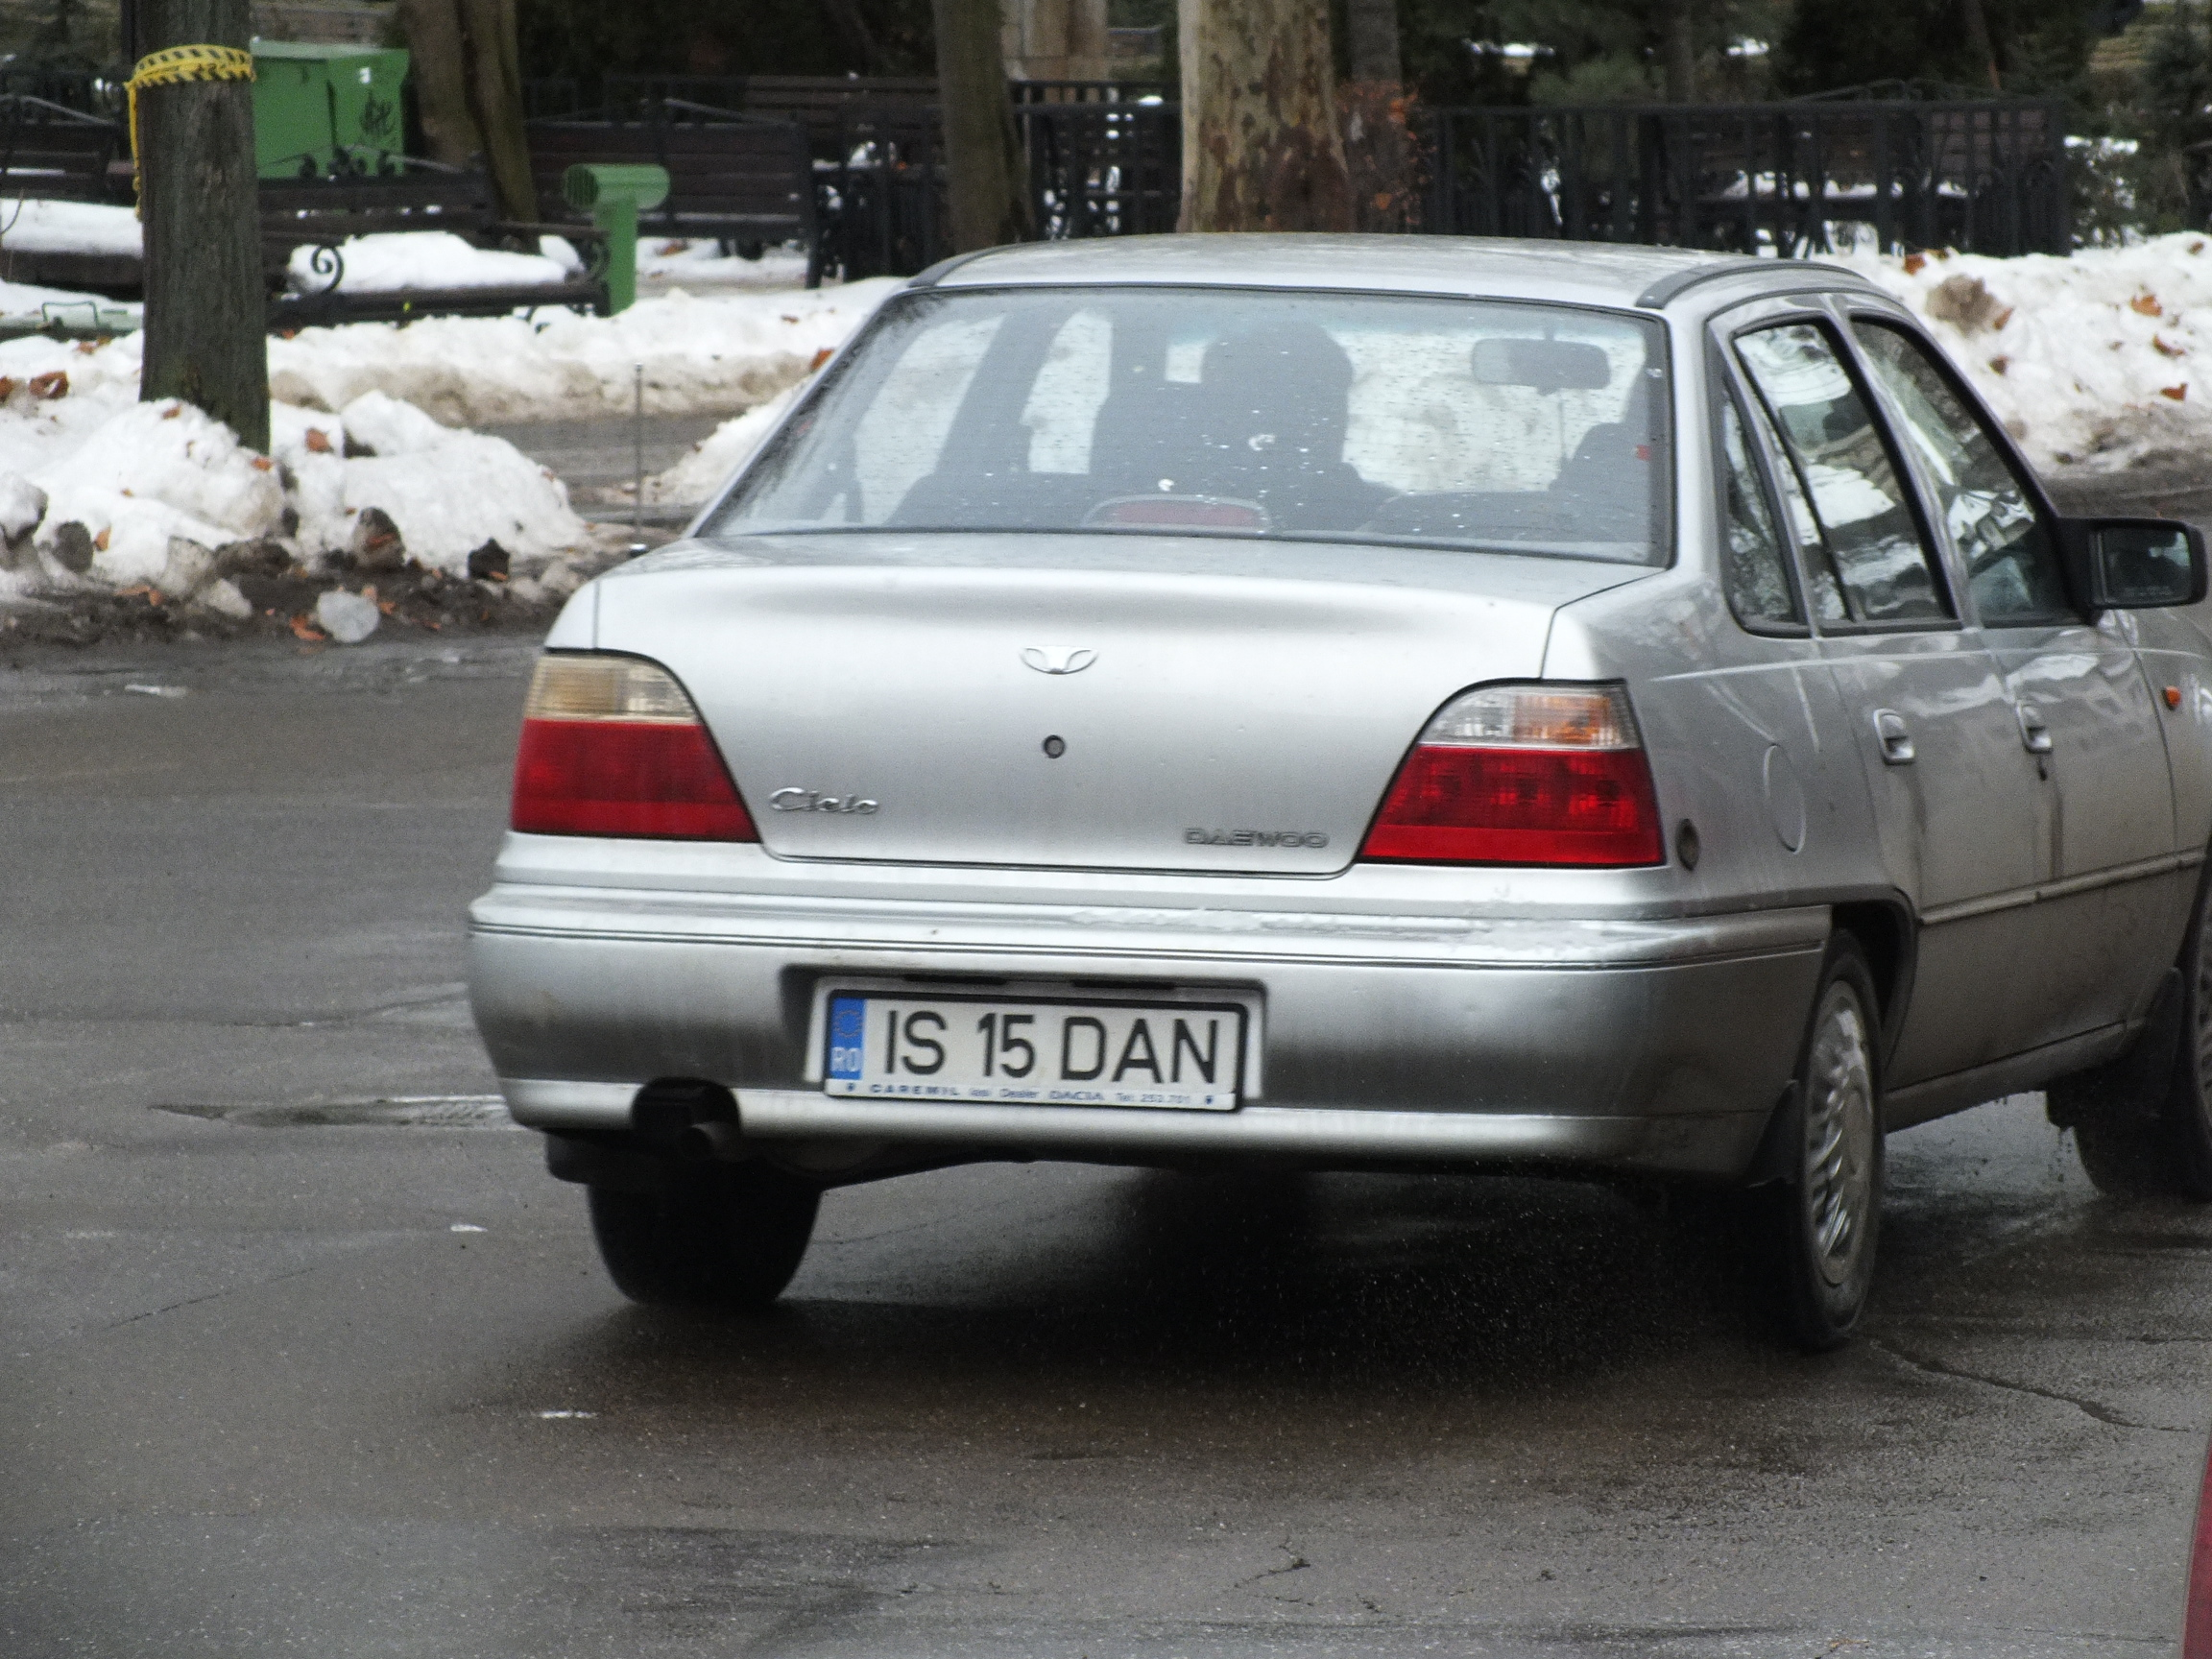IS15DAN: (829, 1006, 1229, 1093)
